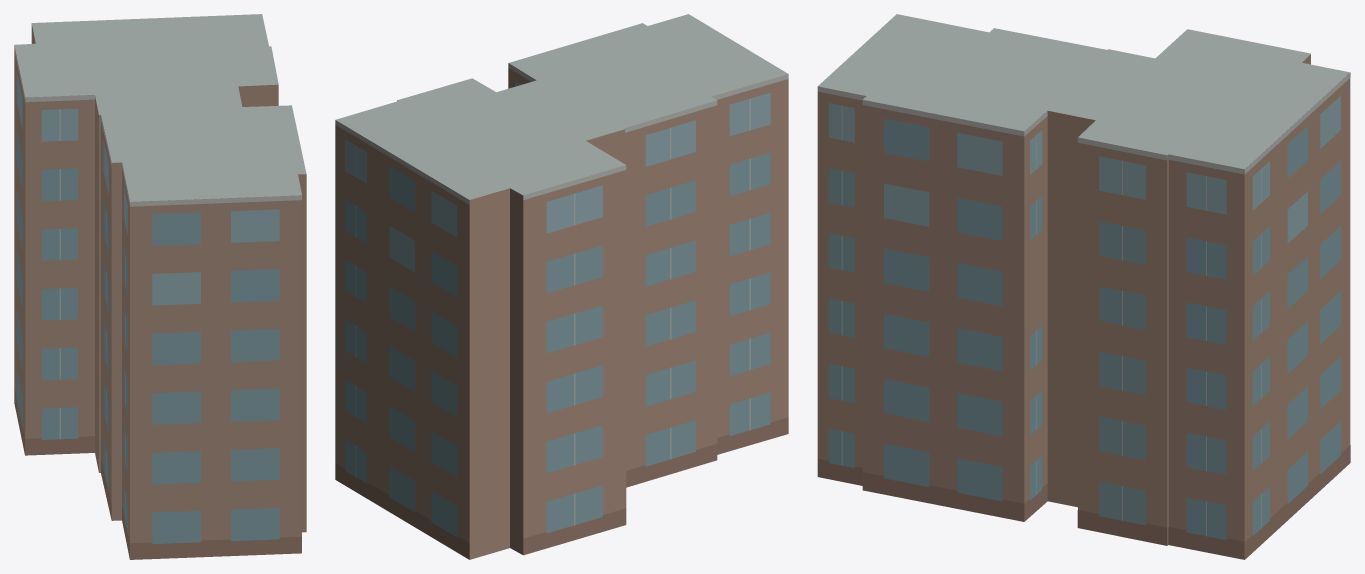
Rendered from survey-upis-32962339.glb.
The picture shows the model from 3 angles, left to right: view 1: azimuth 30°, elevation 25°; view 2: azimuth 150°, elevation 25°; view 3: azimuth 270°, elevation 25°; orthographic projection. The views are drawn at different scales.
Parts seen in each view (by area): view 1: survey-upis-32962339.tmp; view 2: survey-upis-32962339.tmp; view 3: survey-upis-32962339.tmp.
Boxes of the visible parts, x1=… form: survey-upis-32962339.tmp: x1=14, y1=14, x2=306, y2=559; survey-upis-32962339.tmp: x1=335, y1=14, x2=788, y2=559; survey-upis-32962339.tmp: x1=817, y1=14, x2=1350, y2=559.
Size of the model in its own units: 15.61 by 18.3 by 22.63.
